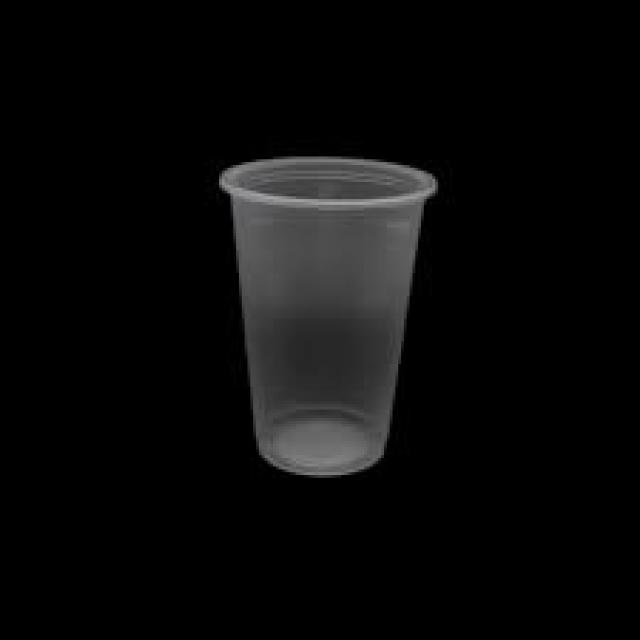cup: (193, 119, 486, 506)
